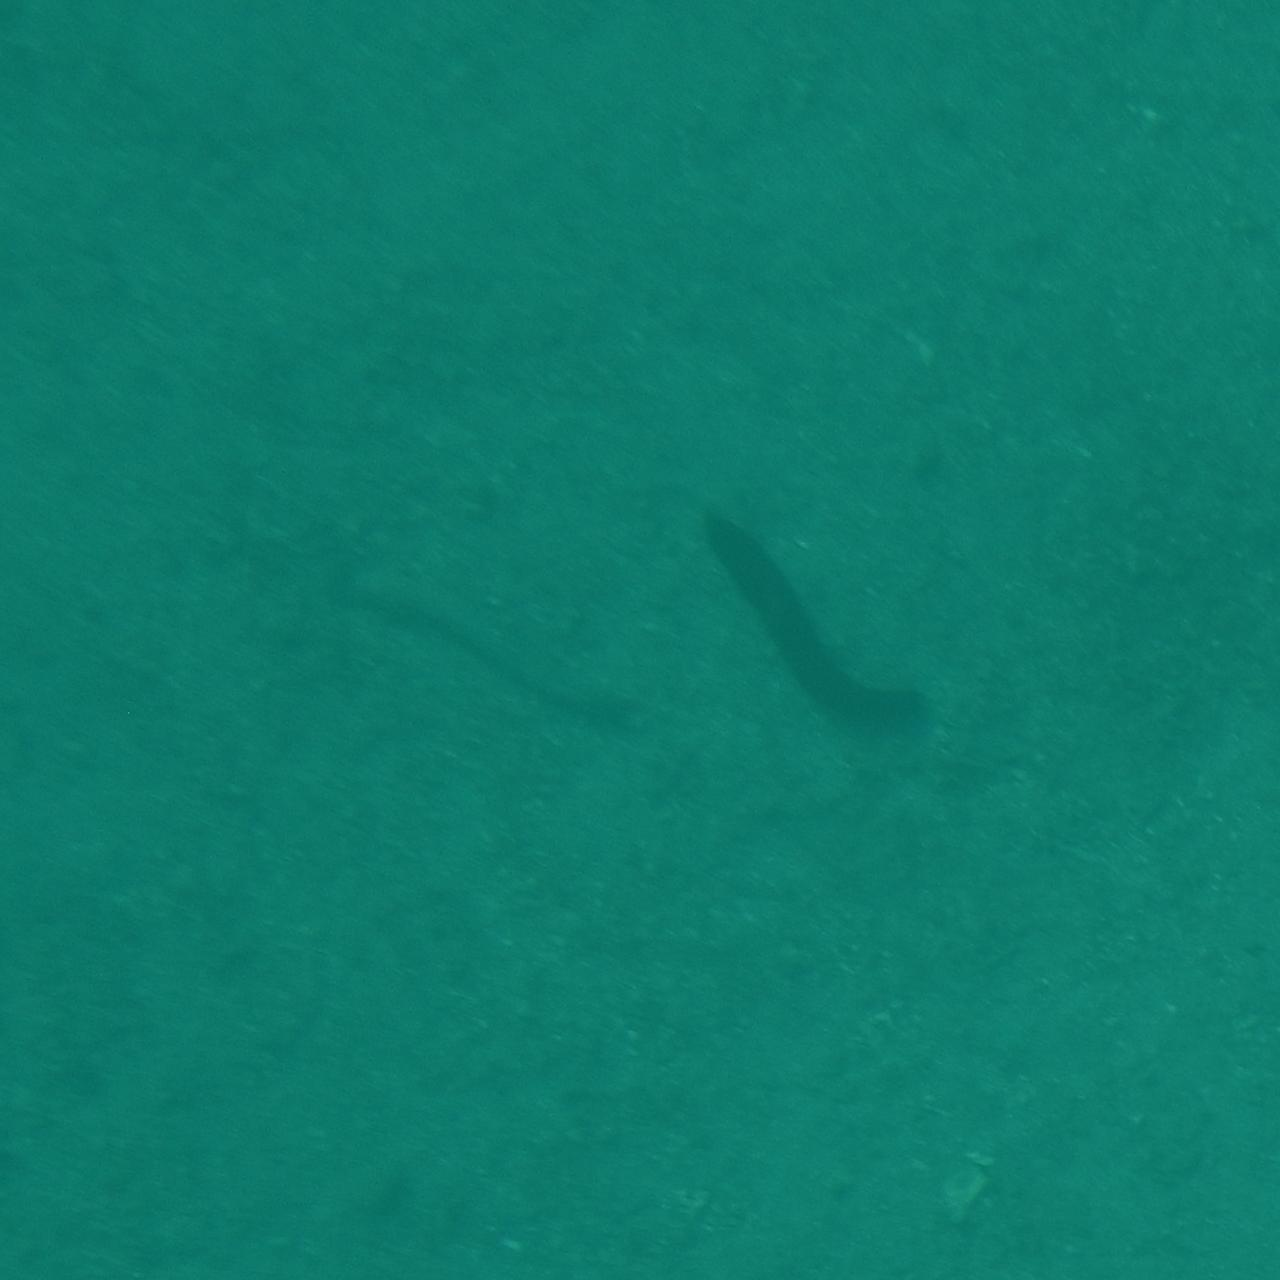Holothuria tubulosa: (690, 499, 954, 760), (281, 563, 635, 738)
